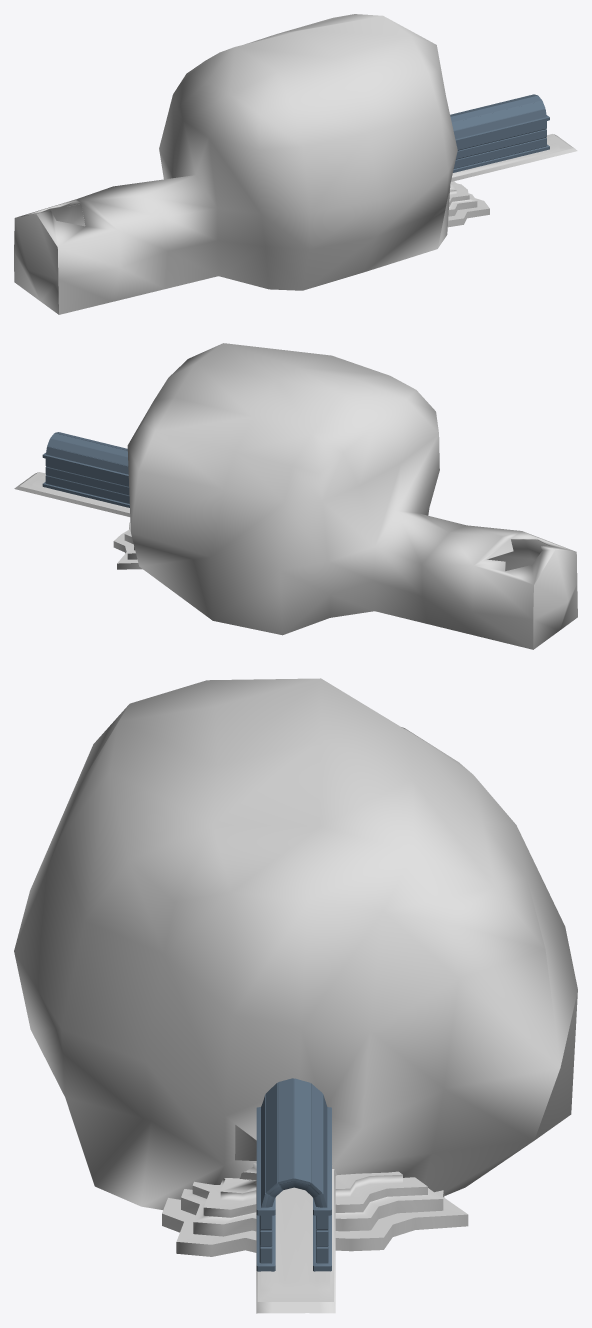
File: CK AKKA 1.fbx
3 views of the same model, one above another, from view 1: azimuth 30°, elevation 25°; view 2: azimuth 150°, elevation 25°; view 3: azimuth 270°, elevation 25° (orthographic). The views are drawn at different scales.
Visible parts, largest first — view 1: Cube.007, Pintu.001, Cylinder.001; view 2: Cube.007, Pintu.001, Cylinder.001; view 3: Cube.007, Cylinder.001, Pintu.001.
Part boxes in pixels (bbox=[...]): Cube.007: bbox=[14, 14, 457, 314]; Pintu.001: bbox=[450, 94, 549, 172]; Cylinder.001: bbox=[447, 134, 577, 227]; Cube.007: bbox=[127, 343, 577, 649]; Pintu.001: bbox=[42, 432, 129, 507]; Cylinder.001: bbox=[14, 472, 142, 569]; Cube.007: bbox=[14, 678, 577, 1209]; Cylinder.001: bbox=[162, 1163, 468, 1313]; Pintu.001: bbox=[256, 1078, 331, 1271].
Size of the model in its own units: 13196 by 4547 by 6176.
